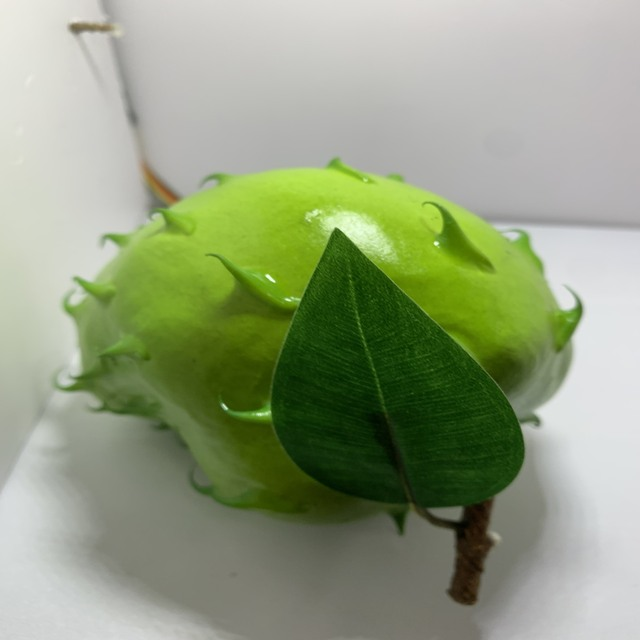Man cau: (62, 153, 582, 525)
